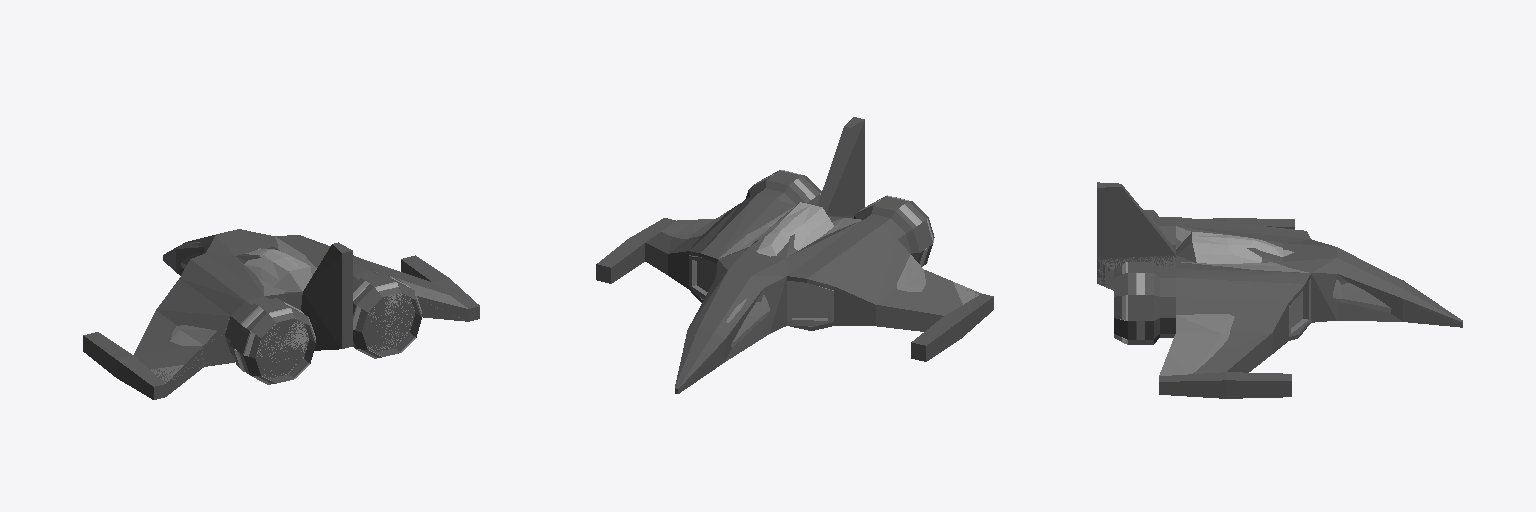
File: shiploobj.obj
The picture shows the model from 3 angles: view 1: azimuth 30°, elevation 25°; view 2: azimuth 150°, elevation 25°; view 3: azimuth 270°, elevation 25°; orthographic projection.
Visible parts, largest first — view 1: shipLo_Untitled.001, shipHi_Untitled; view 2: shipLo_Untitled.001, shipHi_Untitled; view 3: shipLo_Untitled.001, shipHi_Untitled.
Part boxes in pixels (x1,y1,x2,y2): shipLo_Untitled.001: (83,229,479,399); shipHi_Untitled: (151,237,467,384); shipLo_Untitled.001: (596,117,993,393); shipHi_Untitled: (661,170,981,347); shipLo_Untitled.001: (1097,182,1462,398); shipHi_Untitled: (1097,226,1391,375).
Bounding box in the file's own units: 28.98 × 11.77 × 27.55.